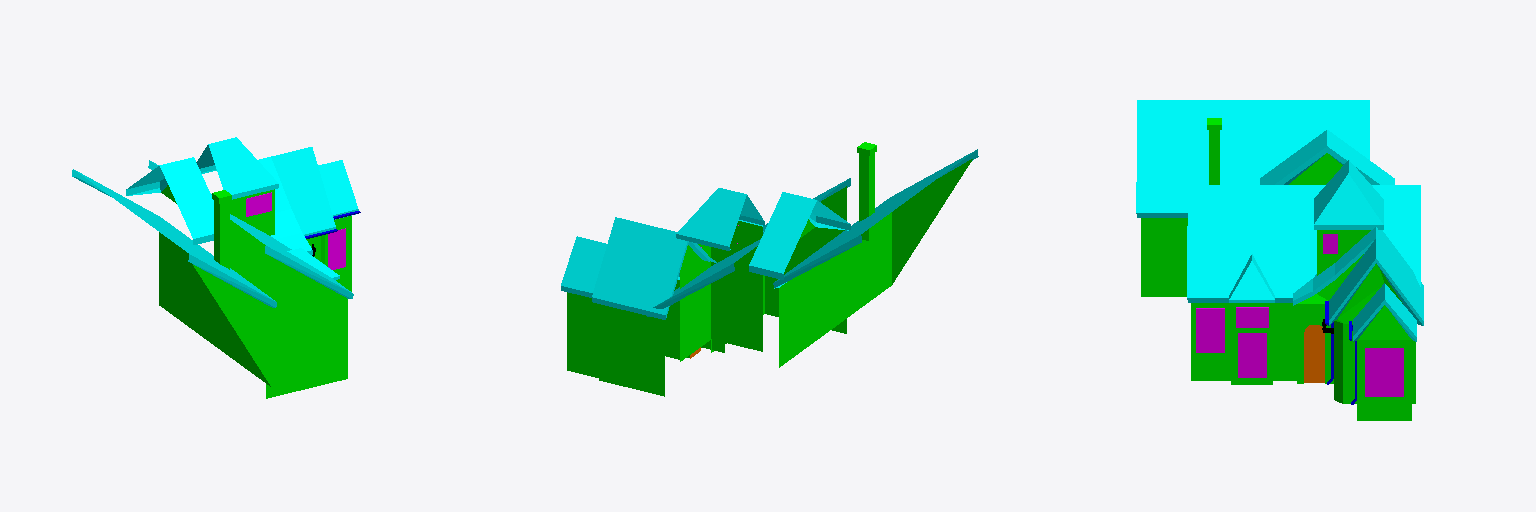
File: house_for_substance.obj
3 views of the same model, side by side, from view 1: azimuth 30°, elevation 25°; view 2: azimuth 150°, elevation 25°; view 3: azimuth 270°, elevation 25° (orthographic).
Visible parts, largest first — view 1: bases house, house roofs, house windows; view 2: bases house, house roofs; view 3: house roofs, bases house, house windows, house door.
Part boxes in pixels (bbox=[...]): bases house: bbox=[159, 185, 351, 398]; house roofs: bbox=[72, 137, 358, 307]; house windows: bbox=[246, 192, 345, 269]; bases house: bbox=[567, 142, 972, 396]; house roofs: bbox=[561, 149, 978, 319]; house roofs: bbox=[1136, 100, 1423, 341]; bases house: bbox=[1141, 118, 1415, 420]; house windows: bbox=[1196, 234, 1403, 396]; house door: bbox=[1304, 325, 1324, 382].
Size of the model in its own units: 3.39 by 2.38 by 3.03.